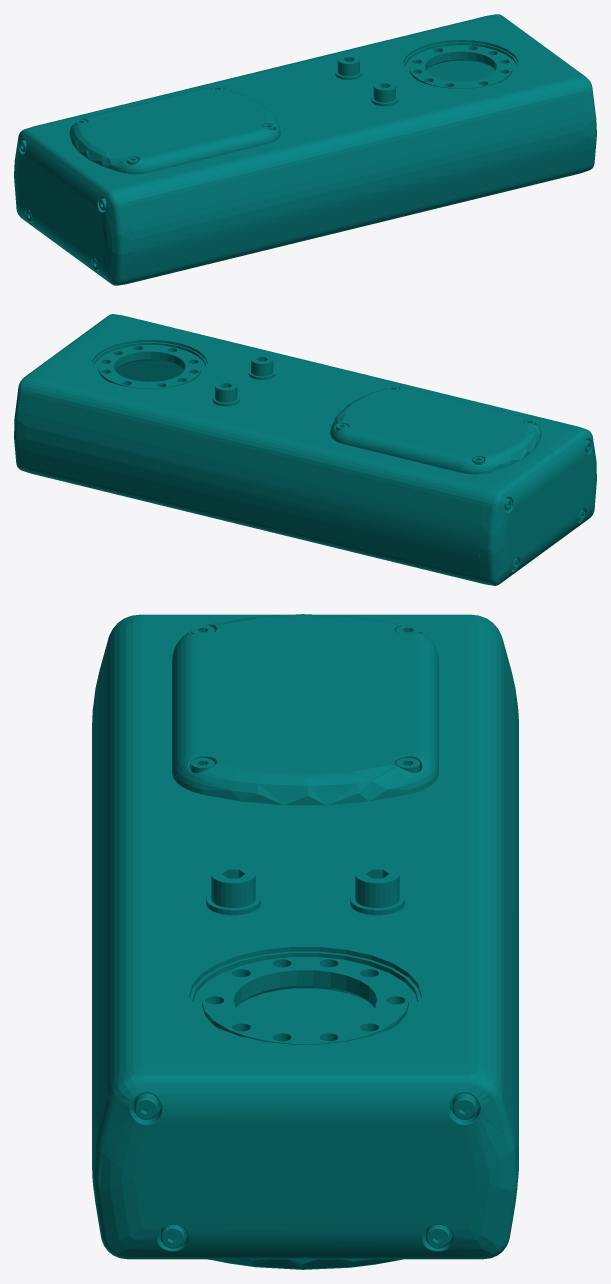
The picture shows the model from 3 angles, top to bottom: view 1: azimuth 30°, elevation 25°; view 2: azimuth 150°, elevation 25°; view 3: azimuth 270°, elevation 25°; orthographic projection. The views are drawn at different scales.
Visible parts, largest first — view 1: node0; view 2: node0; view 3: node0.
Boxes of the visible parts, x1,y1,x2,y2 form: node0: [14, 14, 596, 285]; node0: [14, 314, 596, 585]; node0: [92, 614, 518, 1269].
Size of the model in its own units: 0.33 by 0.1248 by 0.0796.
